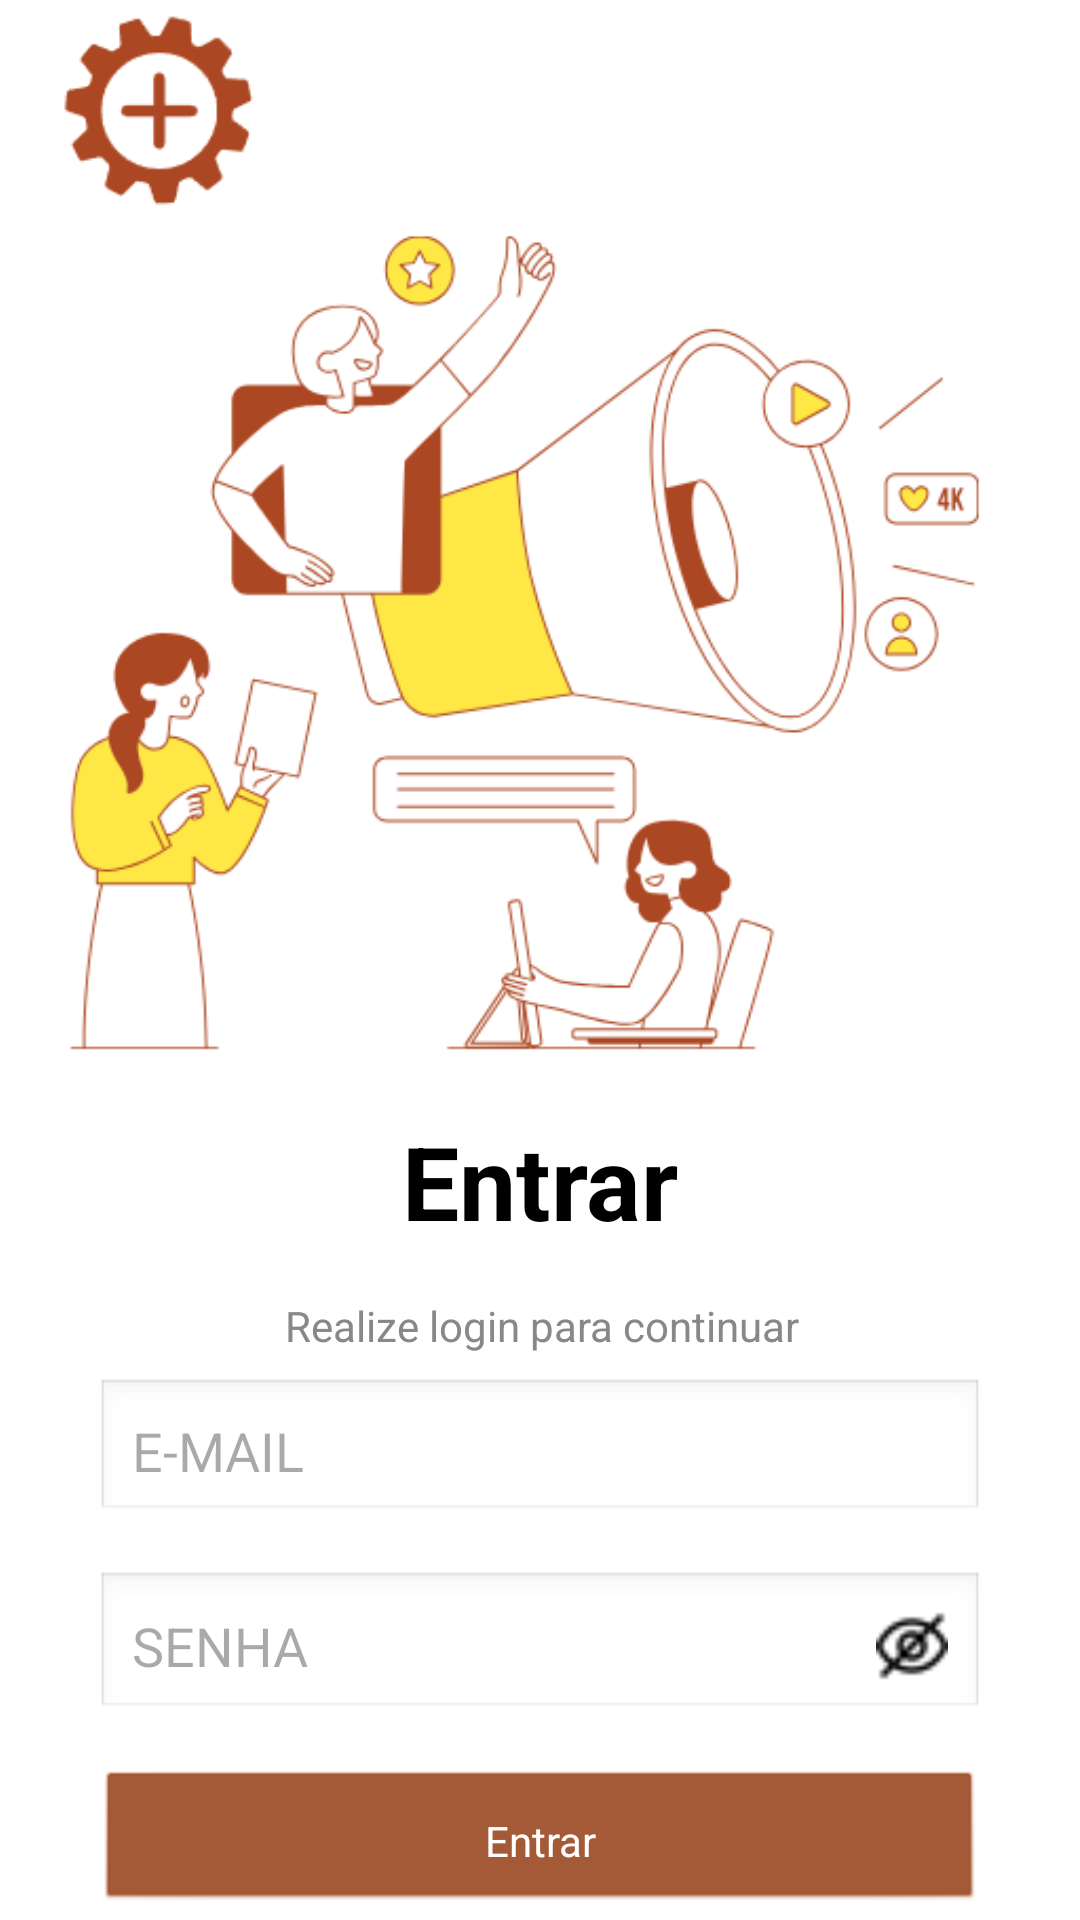

Where icons sit on this 1080×1920 app screen, as (x1, y1, x2, y2):
olho fechado: (876, 1613, 948, 1679)
